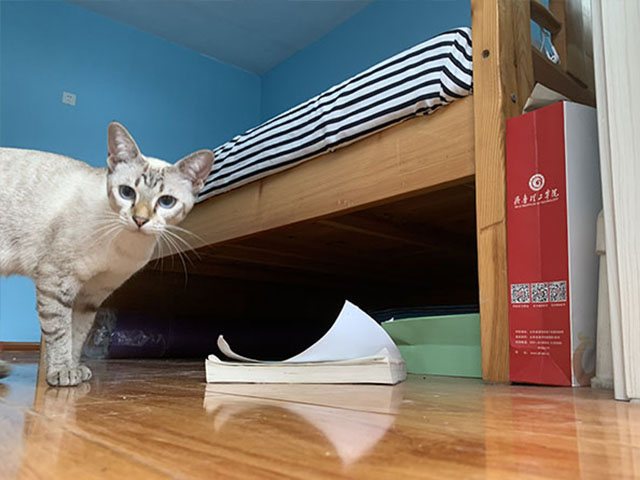bed: (159, 1, 590, 388)
book: (203, 296, 408, 387)
